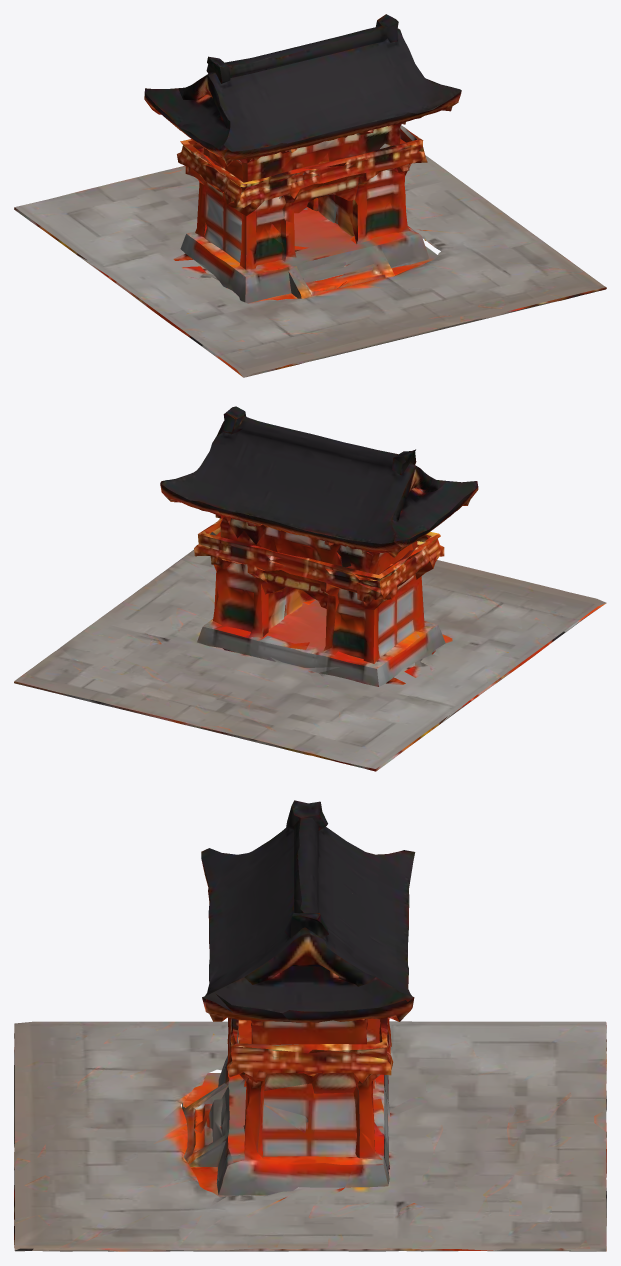
The model's file is yasaka-shrine.glb.
3 renders of one model, top to bottom at view 1: azimuth 30°, elevation 25°; view 2: azimuth 150°, elevation 25°; view 3: azimuth 270°, elevation 25°, orthographic. The views are drawn at different scales.
Parts seen in each view (by area): view 1: logan-textured.obj; view 2: logan-textured.obj; view 3: logan-textured.obj.
Boxes of the visible parts, bbox=[...] form: logan-textured.obj: bbox=[14, 14, 606, 377]; logan-textured.obj: bbox=[14, 406, 606, 771]; logan-textured.obj: bbox=[14, 800, 606, 1251].
Size of the model in its own units: 0.9105 by 0.5424 by 1.
Materials: 1 (1 with a texture image).
